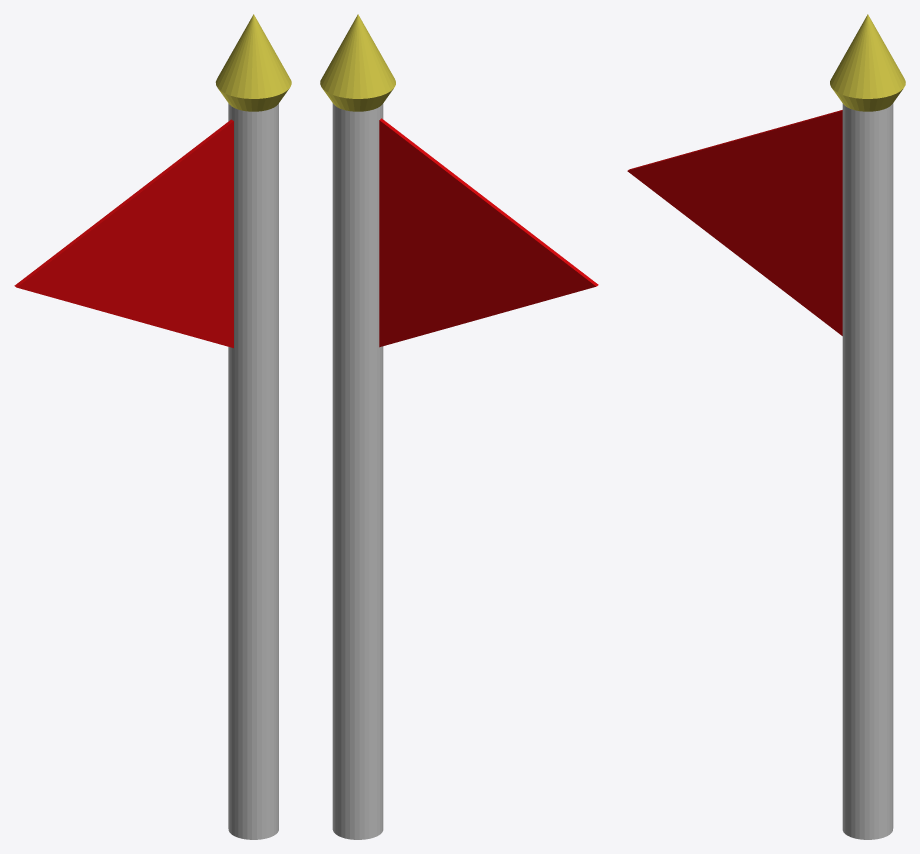
Rendered from flag.fbx.
3 views of the same model, side by side, from view 1: azimuth 30°, elevation 25°; view 2: azimuth 150°, elevation 25°; view 3: azimuth 330°, elevation 25° (orthographic).
Visible parts, largest first — view 1: Plane; view 2: Plane; view 3: Plane.
Part boxes in pixels (x1,y1,x2,y2): Plane: (14,14,291,839); Plane: (320,14,598,839); Plane: (627,14,905,839).
Size of the model in its own units: 237 by 678 by 57.35.
